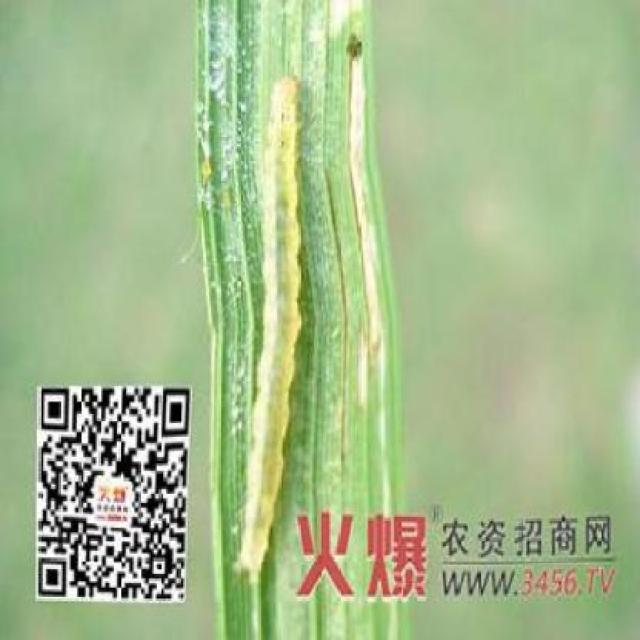leaf-folder: (216, 56, 344, 507)
